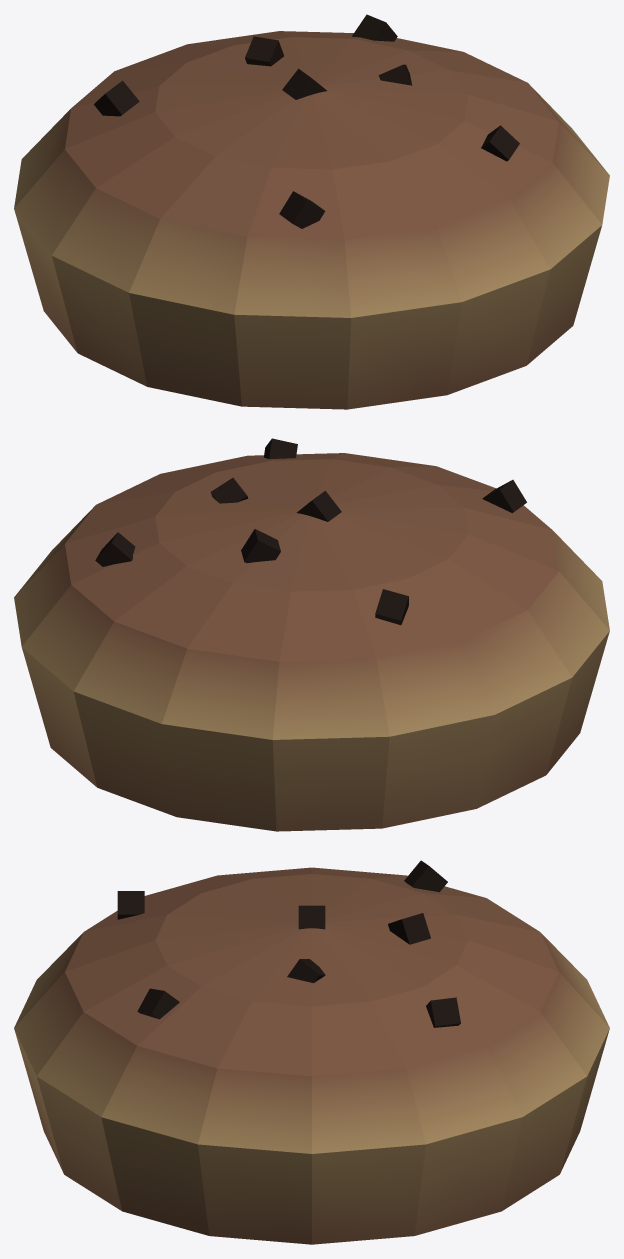
File: Bolo.fbx
3 views of the same model, one above another, from view 1: azimuth 30°, elevation 25°; view 2: azimuth 150°, elevation 25°; view 3: azimuth 270°, elevation 25° (orthographic).
Parts seen in each view (by area): view 1: Bolo; view 2: Bolo; view 3: Bolo.
Boxes of the visible parts, box(x1,y1,x2,y2) form: Bolo: box(14, 14, 609, 409); Bolo: box(14, 438, 609, 831); Bolo: box(14, 860, 609, 1244).
Size of the model in its own units: 40 by 16.47 by 40.
